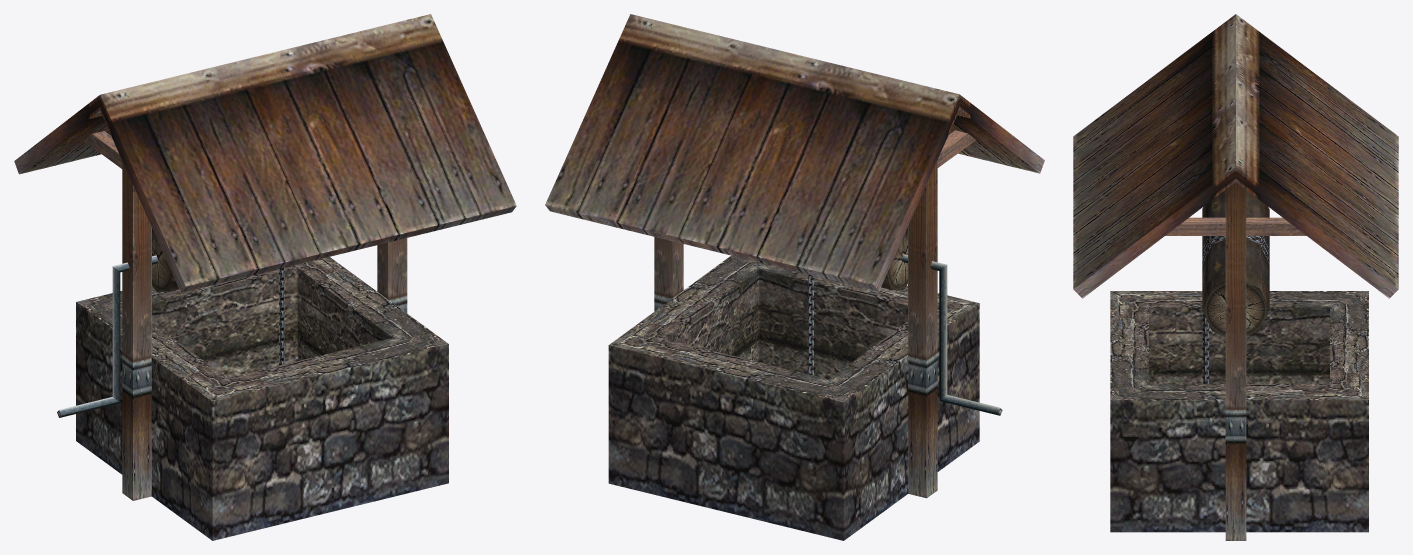
Rendered from kolodec2.glb.
3 views of the same model, side by side, from view 1: azimuth 30°, elevation 25°; view 2: azimuth 150°, elevation 25°; view 3: azimuth 270°, elevation 25° (orthographic). The views are drawn at different scales.
Visible parts, largest first — view 1: kolodec2-col; view 2: kolodec2-col; view 3: kolodec2-col.
Part boxes in pixels (left/top/right/bottom): kolodec2-col: left=14, top=14, right=516, bottom=540; kolodec2-col: left=545, top=14, right=1044, bottom=540; kolodec2-col: left=1073, top=14, right=1398, bottom=540.
Size of the model in its own units: 1.57 by 1.65 by 1.26.
Materials: 10 (10 with a texture image).
